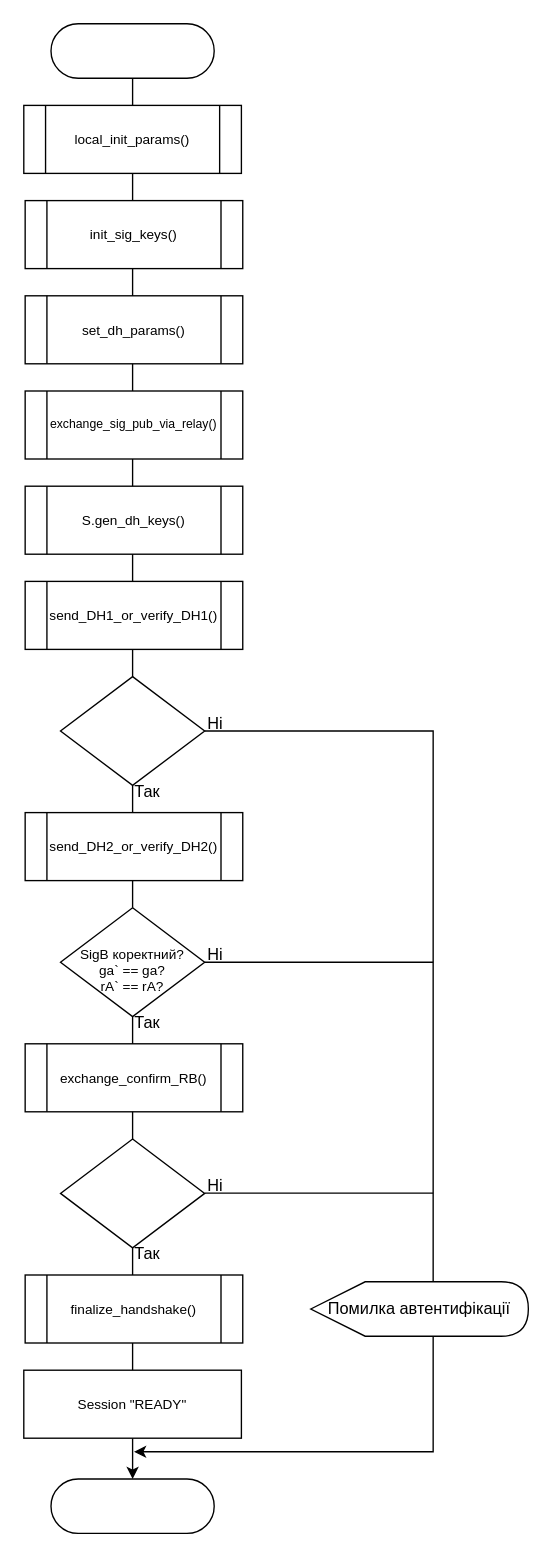
Some shapes in this 552 by 1557 pixel diagram are drawn without their labels. Each missing label, with the centre of its shape:
"RB' == RB ?" belongs at (x=132, y=1193).
"SigA коректний?" belongs at (x=132, y=730).
"Кінець" belongs at (x=132, y=1505).
"Початок" belongs at (x=132, y=50).
